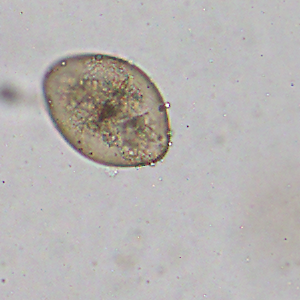Fasciola_hepatica_egg: (39, 49, 172, 169)
